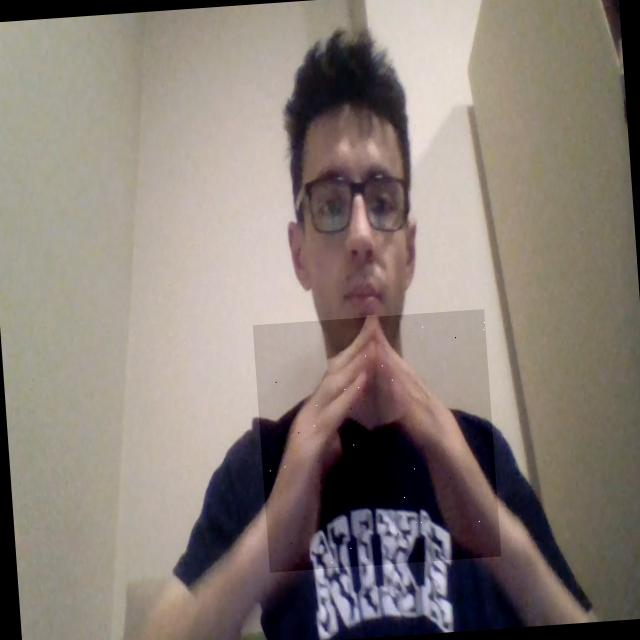house: (252, 309, 501, 572)
